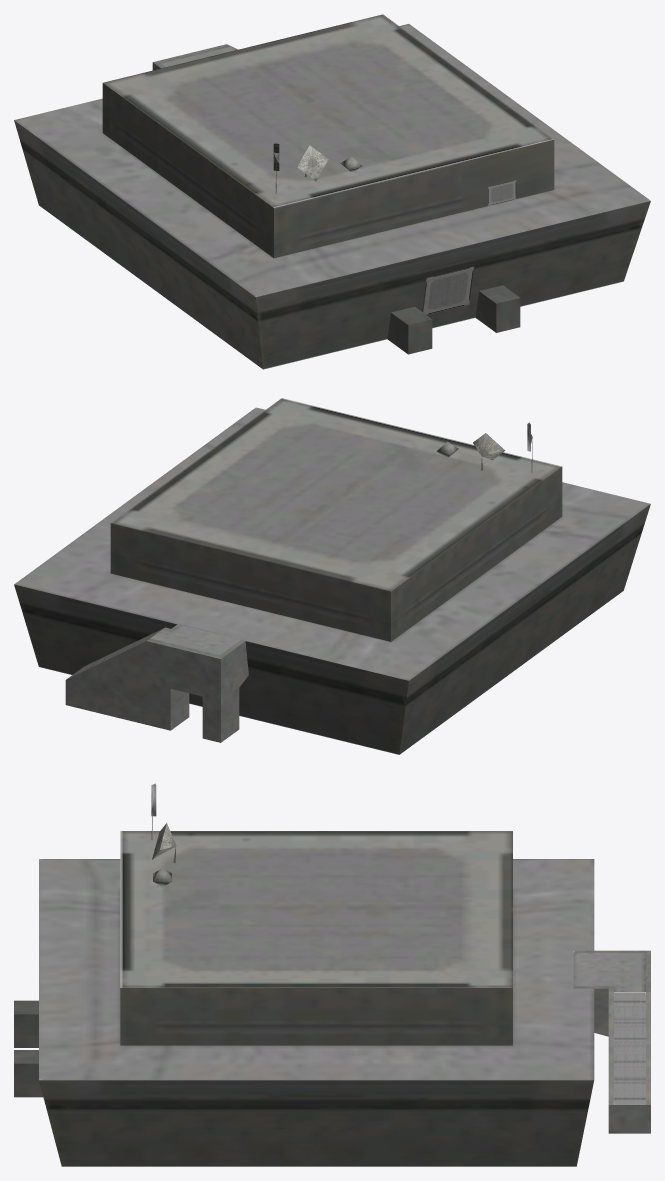
The model's file is mun_all_military_base_police_station_impl_s01_r0_mesh_l3_r0.fbx.
3 renders of one model, top to bottom at view 1: azimuth 30°, elevation 25°; view 2: azimuth 150°, elevation 25°; view 3: azimuth 270°, elevation 25°, orthographic. The views are drawn at different scales.
Parts seen in each view (by area): view 1: mesh_node; view 2: mesh_node; view 3: mesh_node.
Part boxes in pixels (bbox=[...]): mesh_node: bbox=[14, 14, 650, 369]; mesh_node: bbox=[14, 398, 650, 754]; mesh_node: bbox=[14, 783, 650, 1166].
Size of the model in its own units: 49.31 by 21.88 by 60.
